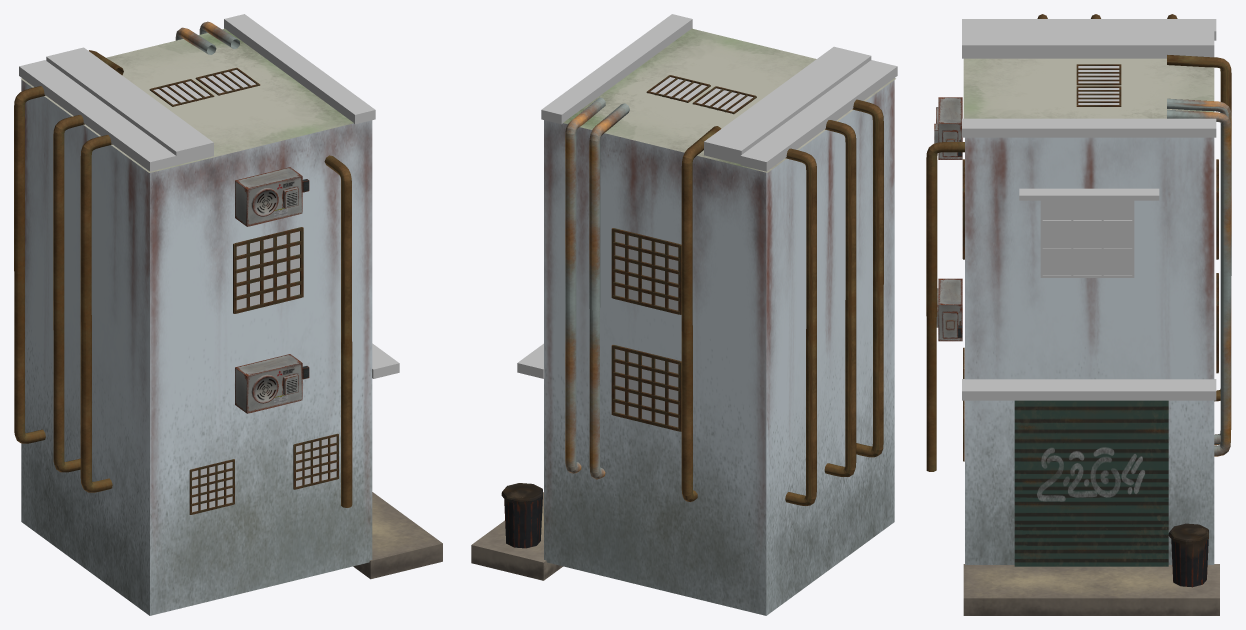
File: Nha 2.2.fbx
The picture shows the model from 3 angles, left to right: view 1: azimuth 30°, elevation 25°; view 2: azimuth 150°, elevation 25°; view 3: azimuth 270°, elevation 25°; orthographic projection. The views are drawn at different scales.
Visible parts, largest first — view 1: tuong xanh 2.002, Tuong xanh 1.002, tuong vang 2.001, cot ngang mau xanh.001, thanh cua rir sets .006, cot ngang mau xanh 2.002, Ong ri set.006, Ong ri set.001, Ong ri set.004, Ong ri set.022, cot ngang mau xanh 2.001, Them nha.001 (+7 smaller); view 2: tuong xanh 2.001, Tuong xanh 1.002, tuong vang 2.001, cot ngang mau xanh.001, thanh cua rir sets .005, thanh cua rir sets .001, cot ngang mau xanh 2.002, Ong ri set.001, Ong ri set.004, Ong ri set.006, cot ngang mau xanh 2.001, Them nha.001 (+11 smaller); view 3: Tuong xanh 1.001, cua cuon.001, tuong vang 2.001, Them nha.001, cot ngang mau xanh.001, Plane.003, cot ngang mau xanh 2.004, cot ngang mau xanh 2.001, Ong ri set.022, cot ngang mau xanh 2.002, Ong trang.002, cot ngang mau xanh 2.003 (+11 smaller).
Part boxes in pixels (left/top/right/bottom): tuong xanh 2.002: left=150, top=120, right=372, bottom=615; Tuong xanh 1.002: left=21, top=80, right=149, bottom=615; tuong vang 2.001: left=20, top=29, right=353, bottom=172; cot ngang mau xanh.001: left=46, top=47, right=213, bottom=165; thanh cua rir sets .006: left=233, top=227, right=303, bottom=313; cot ngang mau xanh 2.002: left=19, top=60, right=176, bottom=171; Ong ri set.006: left=80, top=135, right=112, bottom=492; Ong ri set.001: left=53, top=115, right=84, bottom=472; Ong ri set.004: left=14, top=86, right=45, bottom=443; Ong ri set.022: left=324, top=155, right=352, bottom=507; cot ngang mau xanh 2.001: left=224, top=14, right=375, bottom=124; Them nha.001: left=353, top=492, right=442, bottom=579; tuong xanh 2.001: left=544, top=120, right=766, bottom=615; Tuong xanh 1.002: left=766, top=80, right=894, bottom=615; tuong vang 2.001: left=563, top=28, right=895, bottom=172; cot ngang mau xanh.001: left=704, top=46, right=871, bottom=164; thanh cua rir sets .005: left=611, top=345, right=681, bottom=431; thanh cua rir sets .001: left=611, top=228, right=681, bottom=314; cot ngang mau xanh 2.002: left=740, top=60, right=897, bottom=171; Ong ri set.001: left=824, top=120, right=856, bottom=476; Ong ri set.004: left=785, top=148, right=816, bottom=505; Ong ri set.006: left=852, top=99, right=883, bottom=457; cot ngang mau xanh 2.001: left=541, top=14, right=692, bottom=124; Them nha.001: left=471, top=492, right=562, bottom=580; Tuong xanh 1.001: left=965, top=137, right=1214, bottom=564; cua cuon.001: left=1014, top=400, right=1168, bottom=566; tuong vang 2.001: left=963, top=58, right=1214, bottom=118; Them nha.001: left=963, top=564, right=1219, bottom=615; cot ngang mau xanh.001: left=962, top=27, right=1214, bottom=58; Plane.003: left=1042, top=200, right=1132, bottom=275; cot ngang mau xanh 2.004: left=962, top=379, right=1216, bottom=400; cot ngang mau xanh 2.001: left=962, top=118, right=1216, bottom=137; Ong ri set.022: left=926, top=142, right=964, bottom=471; cot ngang mau xanh 2.002: left=962, top=19, right=1216, bottom=40; Ong trang.002: left=1167, top=109, right=1230, bottom=289; cot ngang mau xanh 2.003: left=1019, top=188, right=1159, bottom=200.
Bounding box in the file's own units: 6.58 × 9.33 × 5.58.
